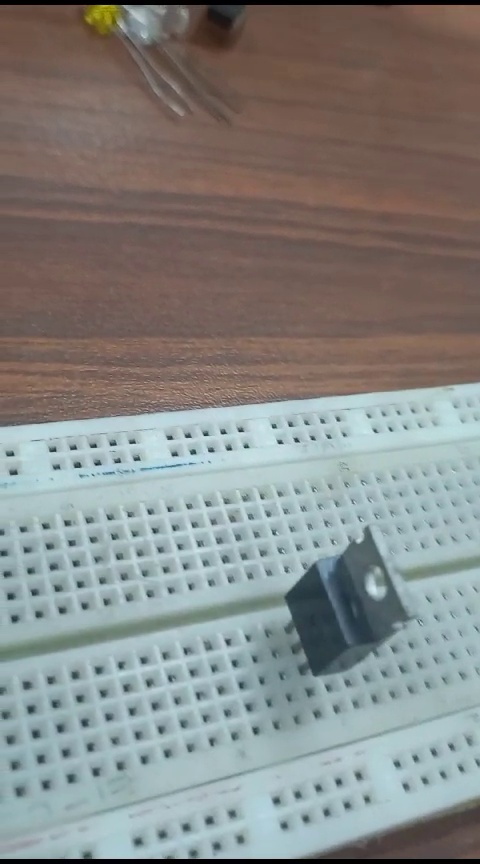voltage regulator: (276, 515, 421, 703)
